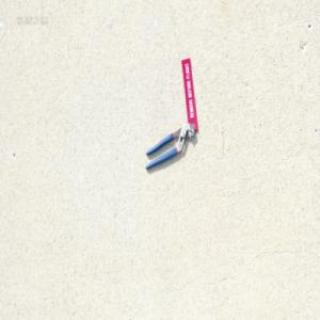LuggageTagtrack_idkeyframe: (180, 55, 198, 130)
Pliertrack_idkeyframe: (144, 120, 194, 170)
